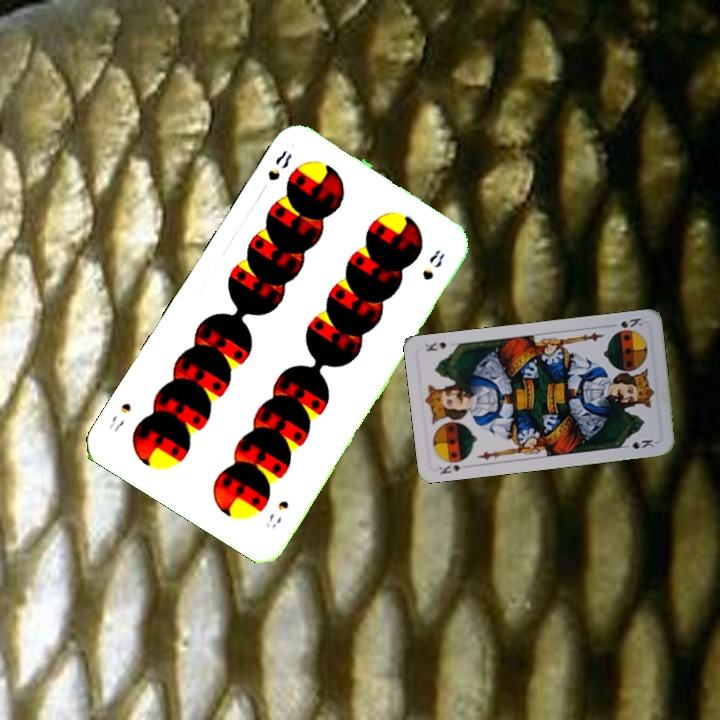S8: (264, 146, 295, 184), (261, 496, 291, 531)
SK: (605, 314, 645, 330), (435, 461, 464, 477)
